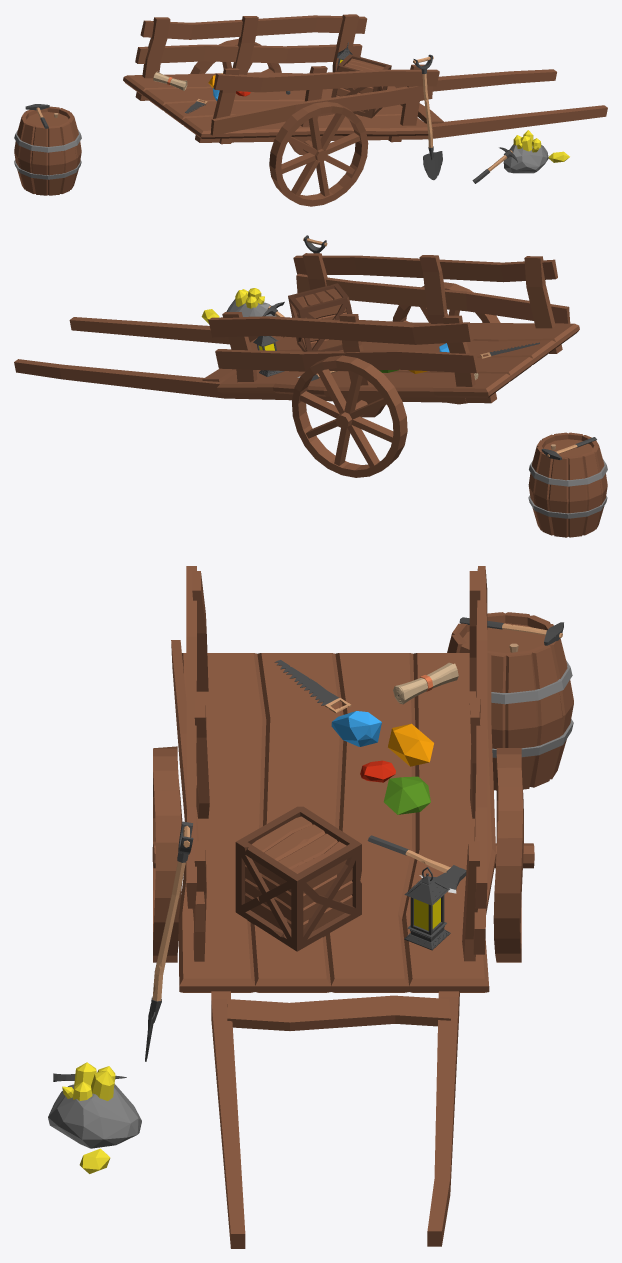
Rendered from free_low_poly_mining_assets.glb.
The picture shows the model from 3 angles, top to bottom: view 1: azimuth 30°, elevation 25°; view 2: azimuth 150°, elevation 25°; view 3: azimuth 270°, elevation 25°; orthographic projection. The views are drawn at different scales.
Visible parts, largest first — view 1: PP_Horse_Cart_Used_02, PP_Horse_Cart_Used_02_Wheels, PP_Barrel_03, PP_Stone_Crystal_02_Gold, PP_Crate_Wooden_03, PP_Shovel_Used_03_Iron, PP_Paper_Roll_01, PP_Pickaxe_Used_04_Iron; view 2: PP_Horse_Cart_Used_02, PP_Horse_Cart_Used_02_Wheels, PP_Barrel_03, PP_Crate_Wooden_03, PP_Stone_Crystal_02_Gold, PP_Lantern_02_Yellow_Light_Iron; view 3: PP_Horse_Cart_Used_02, PP_Crate_Wooden_03, PP_Barrel_03, PP_Horse_Cart_Used_02_Wheels, PP_Stone_Crystal_02_Gold, PP_Lantern_02_Yellow_Light_Iron, PP_Shovel_Used_03_Iron, PP_Gemstone_05_Green, PP_Gemstone_07_Copper, PP_Gemstone_13_Blue, PP_Paper_Roll_01, PP_Axe_Used_07_Iron (+1 smaller).
Boxes of the visible parts, x1,y1,x2,y2 form: PP_Horse_Cart_Used_02: (123,14,607,162); PP_Horse_Cart_Used_02_Wheels: (190,38,368,206); PP_Barrel_03: (14,106,81,195); PP_Stone_Crystal_02_Gold: (503,130,548,173); PP_Crate_Wooden_03: (331,54,391,118); PP_Shovel_Used_03_Iron: (413,54,442,180); PP_Paper_Roll_01: (153,71,187,90); PP_Pickaxe_Used_04_Iron: (472,147,517,183); PP_Horse_Cart_Used_02: (14,253,579,428); PP_Horse_Cart_Used_02_Wheels: (292,282,500,477); PP_Barrel_03: (528,432,607,537); PP_Crate_Wooden_03: (288,283,352,351); PP_Stone_Crystal_02_Gold: (226,288,276,316); PP_Lantern_02_Yellow_Light_Iron: (253,336,284,376); PP_Horse_Cart_Used_02: (152,566,534,1248); PP_Crate_Wooden_03: (235,806,361,951); PP_Barrel_03: (447,612,573,790); PP_Horse_Cart_Used_02_Wheels: (153,746,523,962); PP_Stone_Crystal_02_Gold: (48,1062,141,1148); PP_Lantern_02_Yellow_Light_Iron: (404,867,450,950); PP_Shovel_Used_03_Iron: (145,821,193,1061); PP_Gemstone_05_Green: (383,776,430,814); PP_Gemstone_07_Copper: (388,723,433,766); PP_Gemstone_13_Blue: (331,711,381,746); PP_Paper_Roll_01: (393,662,458,704); PP_Axe_Used_07_Iron: (367,835,466,893).
Size of the model in its own units: 808 by 222 by 353.
1 material, 1 textured.
